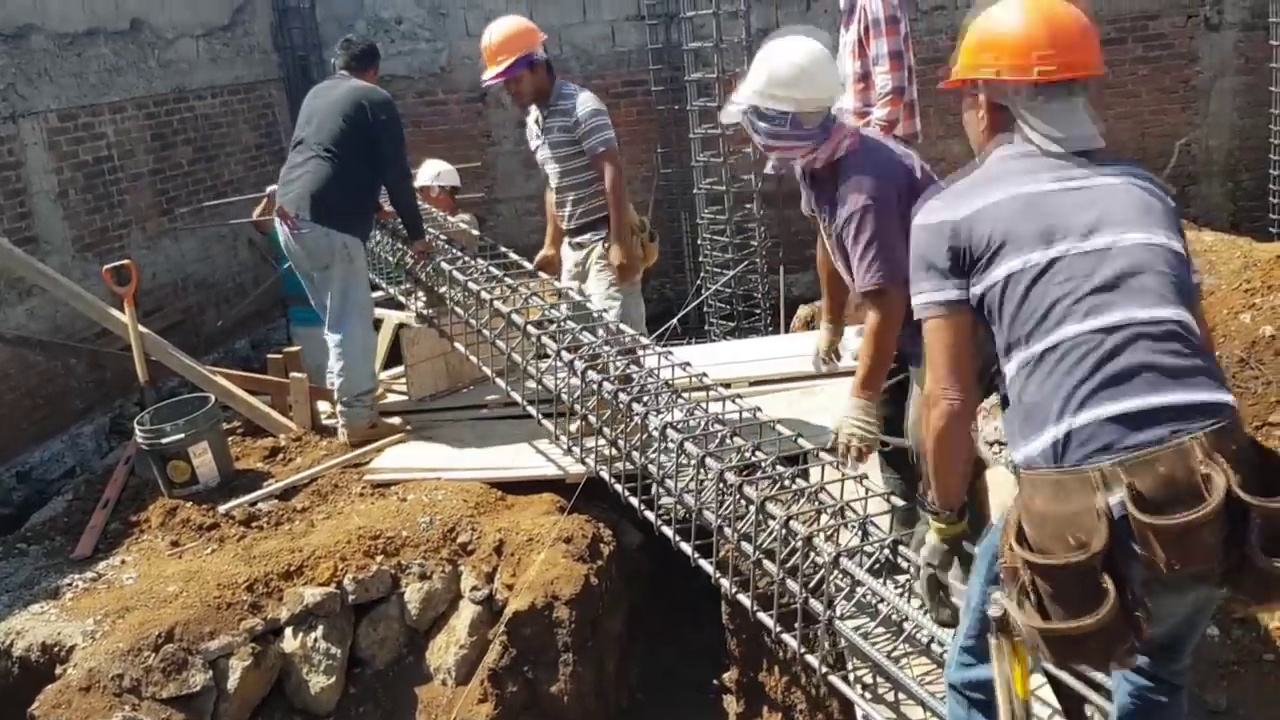helmet: (933, 0, 1111, 89), (719, 27, 839, 129), (473, 16, 549, 83), (412, 157, 464, 188)
helmet-off: (336, 31, 377, 82)
helmet-on: (950, 0, 1111, 164), (719, 26, 841, 169), (474, 15, 556, 106), (411, 158, 464, 216)
person: (911, 0, 1246, 675), (718, 23, 946, 461), (276, 33, 423, 444), (474, 12, 663, 331), (837, 0, 919, 136), (411, 157, 481, 253)
